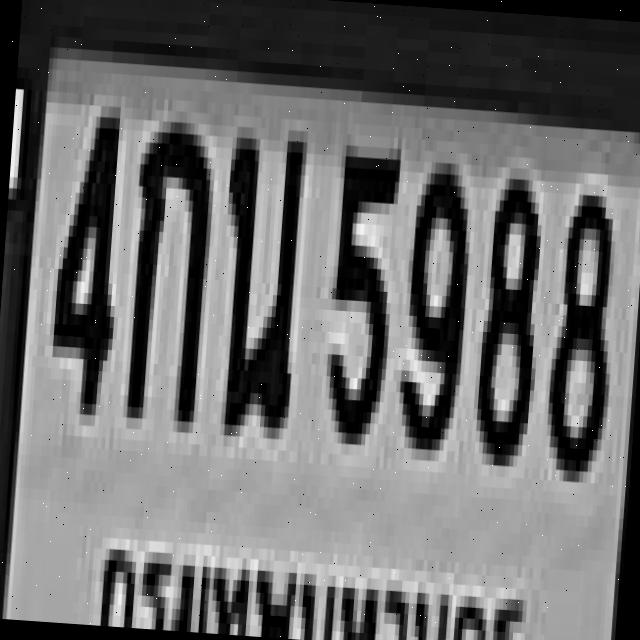10GorGai: (118, 108, 210, 422)
34NorNu: (208, 115, 304, 428)
4: (45, 93, 121, 404)
5: (318, 133, 398, 434)
8: (540, 182, 614, 472), (470, 166, 541, 456)
9: (392, 150, 472, 440)
